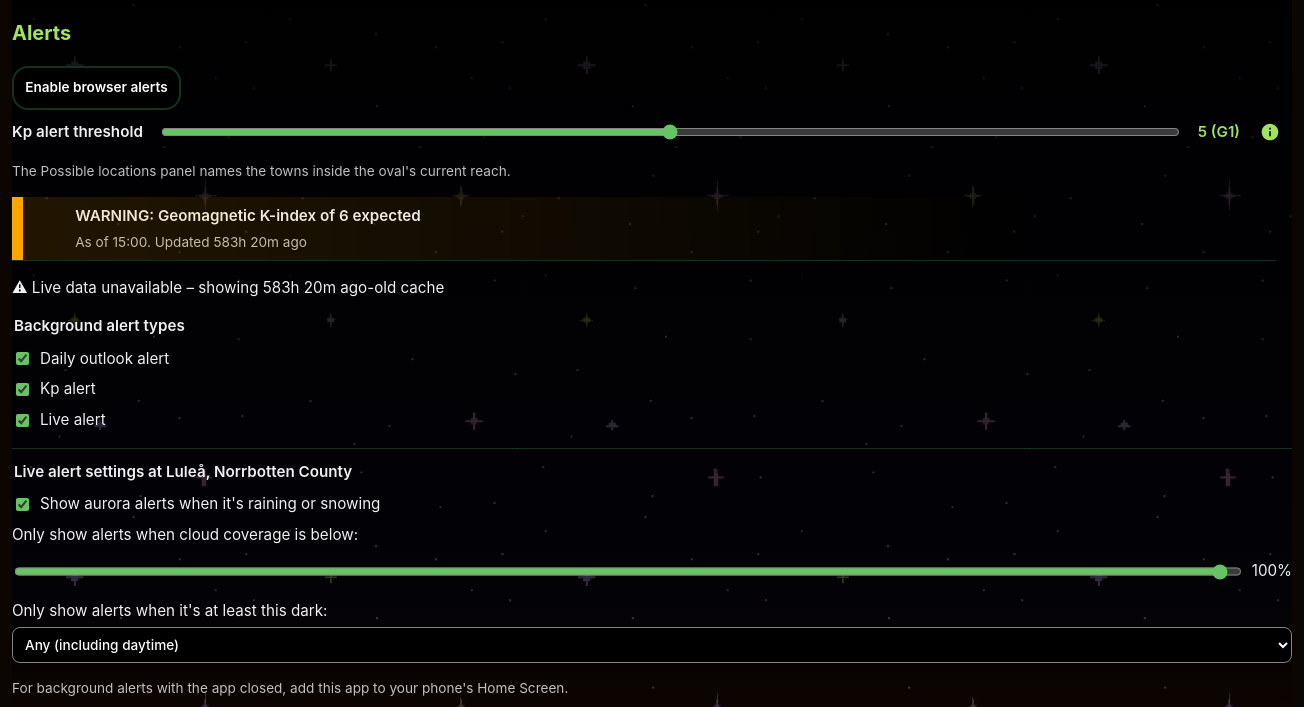
Test case: alert settings UI (ticket 06) › explains the Kp scale and its G mapping beside the slider
The width and height of the screenshot is (1304, 707).
Click the button named "About the Kp alert threshold".
click(1270, 132)  # box 1248,110 -> 1292,154
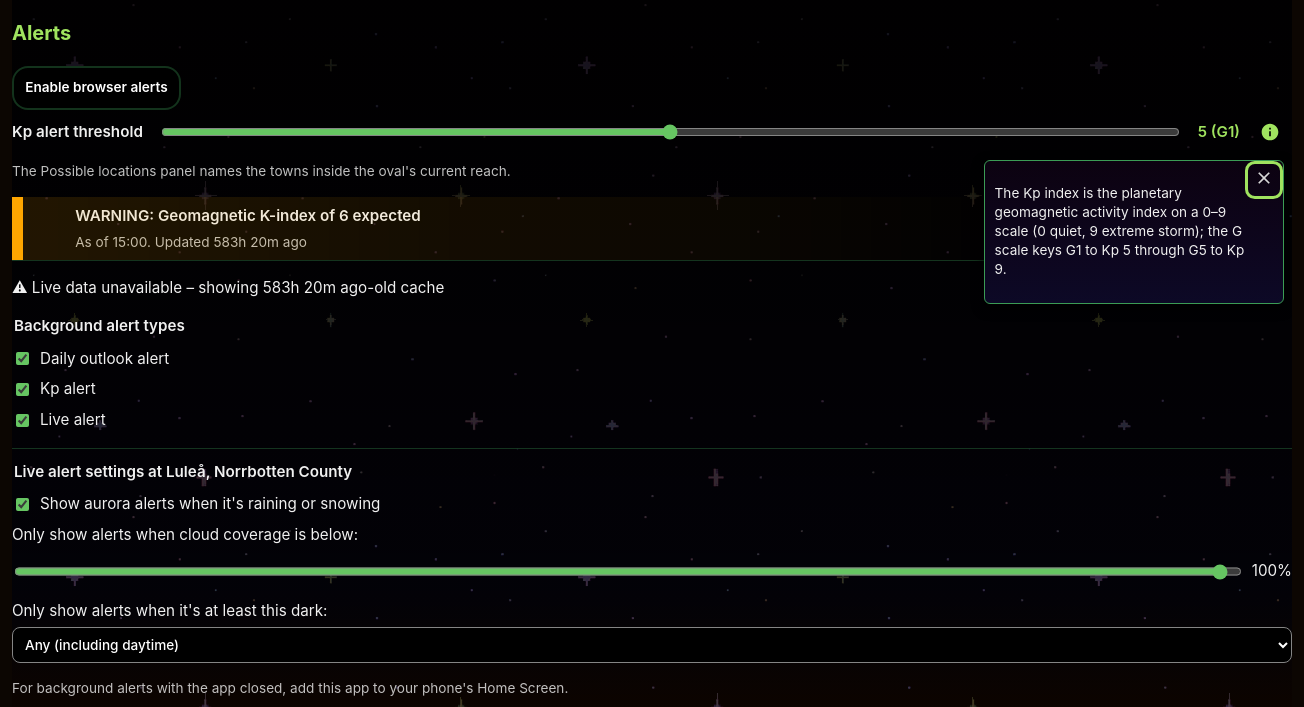
Now the text "0–9 scale" shows "G1", box 995,185 -> 1244,277
Now the text "0–9 scale" shows "G5", box 995,185 -> 1244,277
